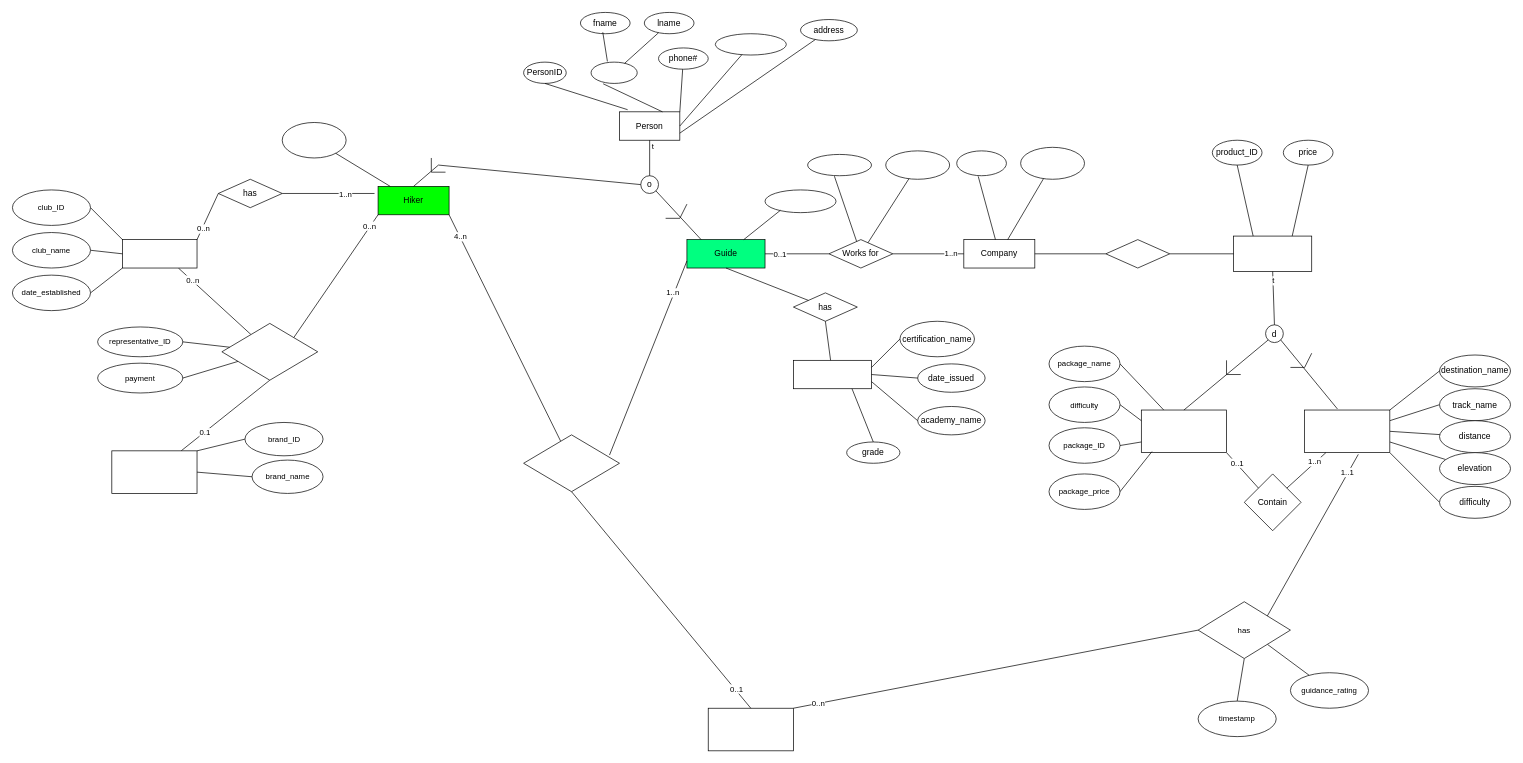
Some shapes in this 1523 by 763 pixel diagram are drawn without their labels. The shapes that lost their labels are listed below. From the top down, each one's centre as x and y in pixels, then its label:
At point (750, 44): "SSN".
At point (613, 72): "name".
At point (314, 140): "highestPeak".
At point (839, 165): "start_date".
At point (917, 164): "end_date".
At point (981, 163): "CID".
At point (1052, 163): "company_name".
At point (800, 201): "specialization".
At point (159, 253): "Club".
At point (1137, 253): "Sells".
At point (1272, 253): "Product".
At point (269, 351): "represent".
At point (832, 374): "Certification".
At point (1184, 431): "Package".
At point (1347, 431): "Destination".
At point (154, 471): "Brand".
At point (571, 463): "participate in".
At point (750, 729): "Trip".
